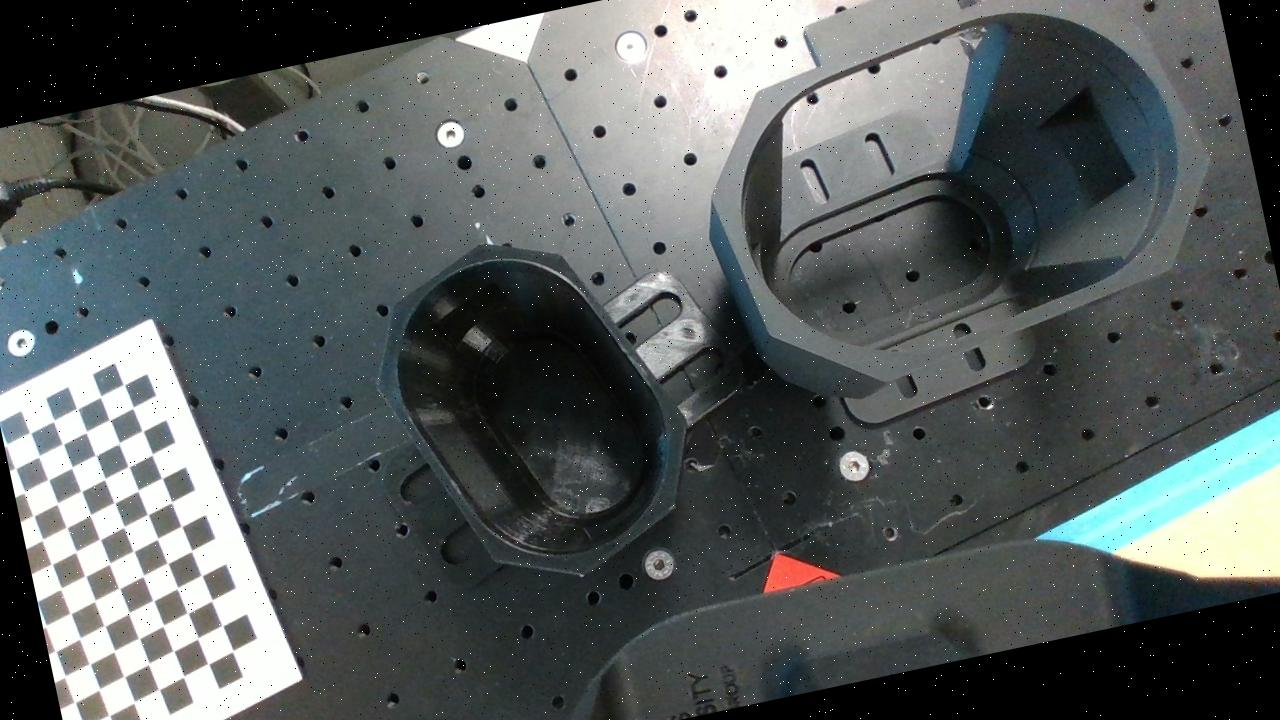big_interface: (680, 0, 1243, 411)
small_interface: (349, 208, 714, 611)
